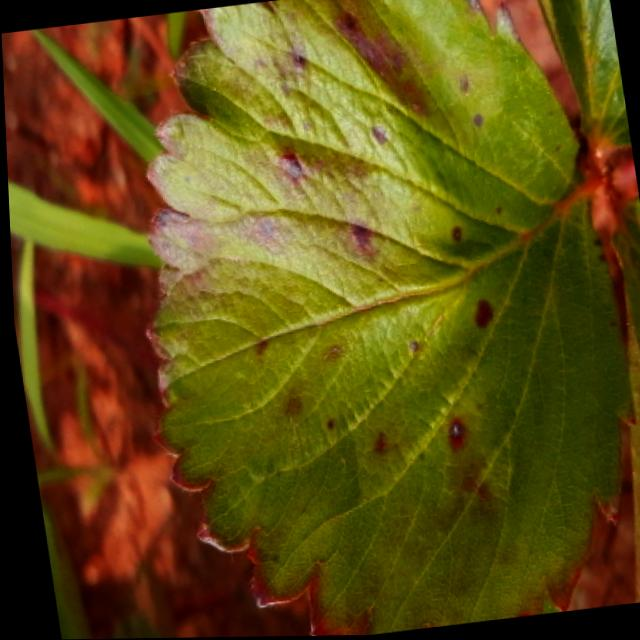Leaf Spot: (139, 0, 632, 637), (606, 192, 640, 605)
